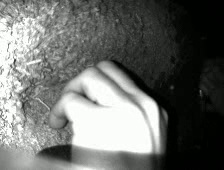corn: (169, 85, 174, 89)
